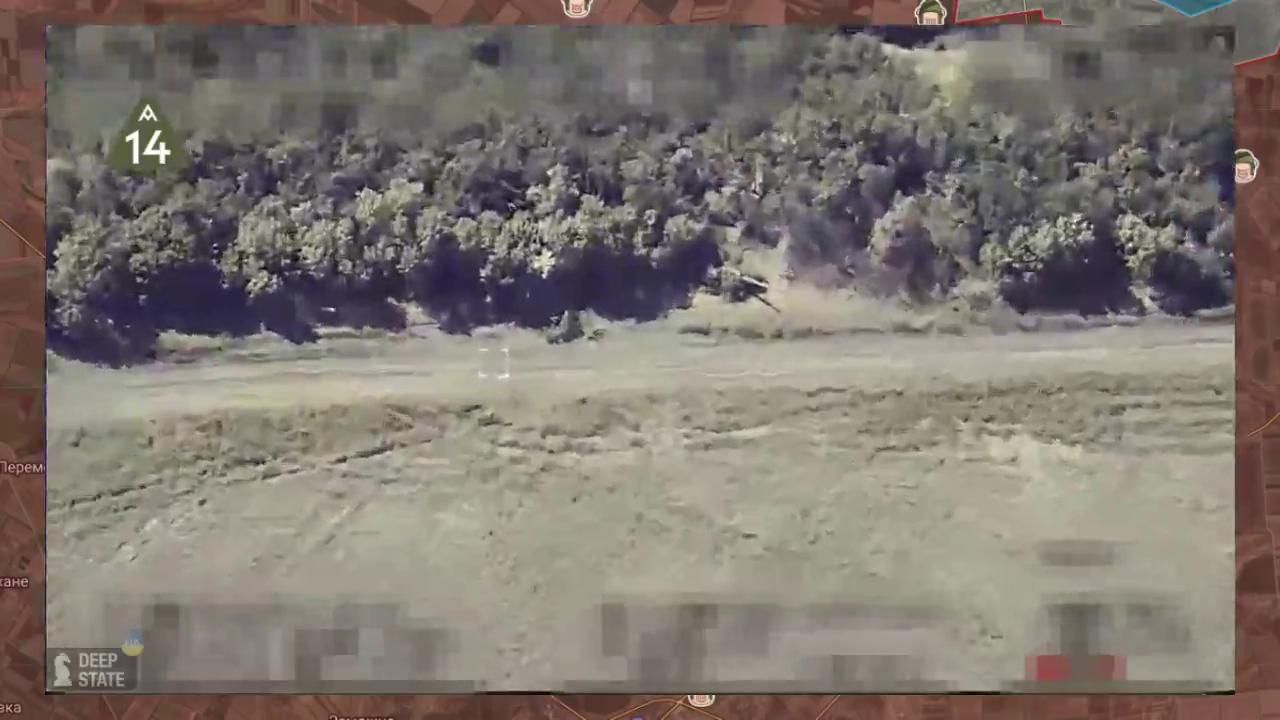tank: (704, 257, 772, 312)
